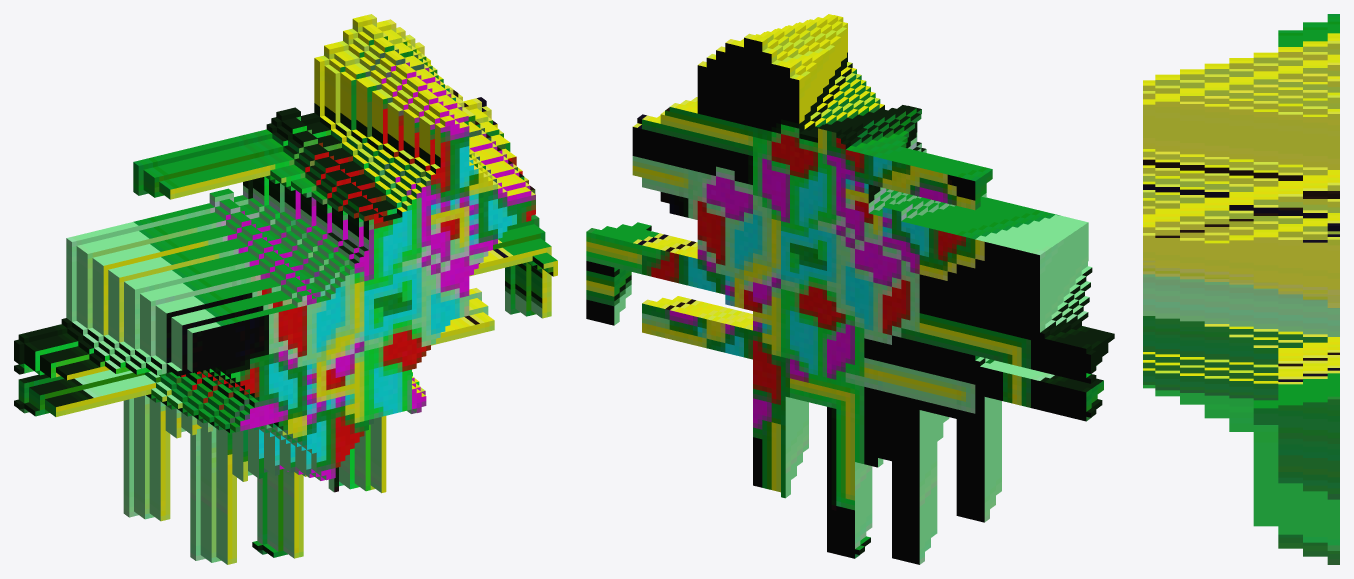
File: dreamlingP15.obj
3 renders of one model, left to right at view 1: azimuth 30°, elevation 25°; view 2: azimuth 150°, elevation 25°; view 3: azimuth 270°, elevation 25°, orthographic. The views are drawn at different scales.
Bounding box in the file's own units: 109 × 102 × 32.
